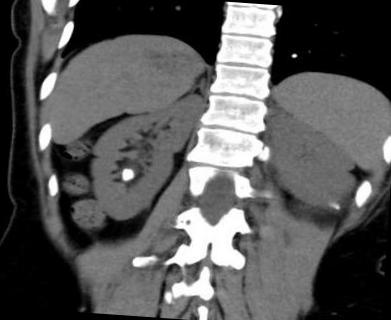Tas_Var: (113, 165, 138, 184), (329, 200, 342, 213)
